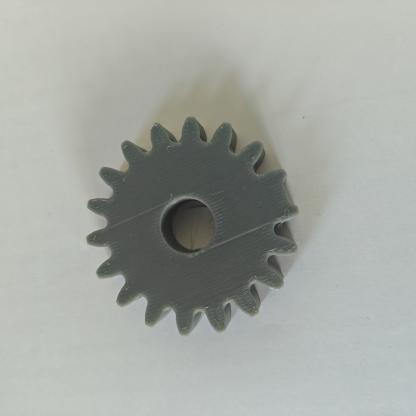defect: (243, 156, 312, 243)
gear: (82, 109, 333, 342)
